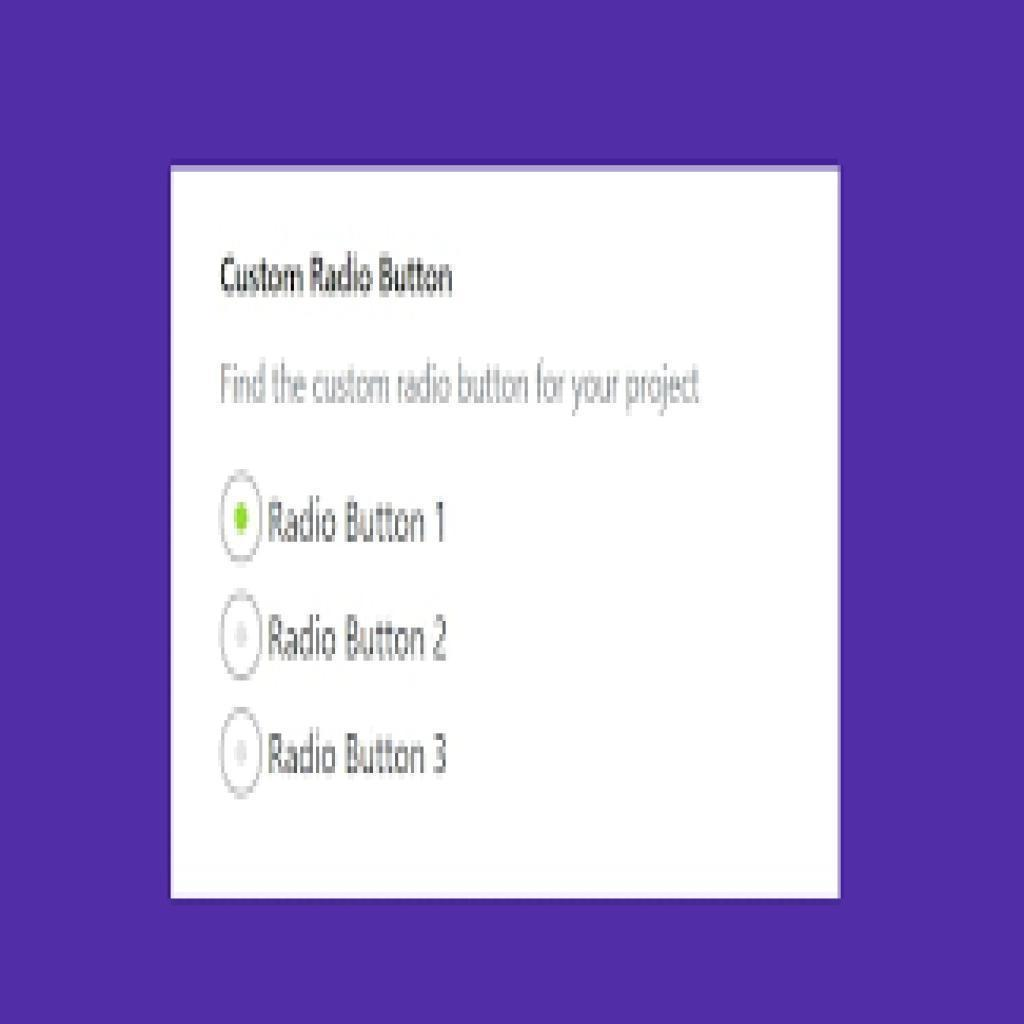label: (264, 723, 455, 783), (264, 609, 453, 666), (264, 496, 445, 549)
radio: (215, 592, 266, 688), (219, 467, 265, 571), (220, 706, 264, 798)
